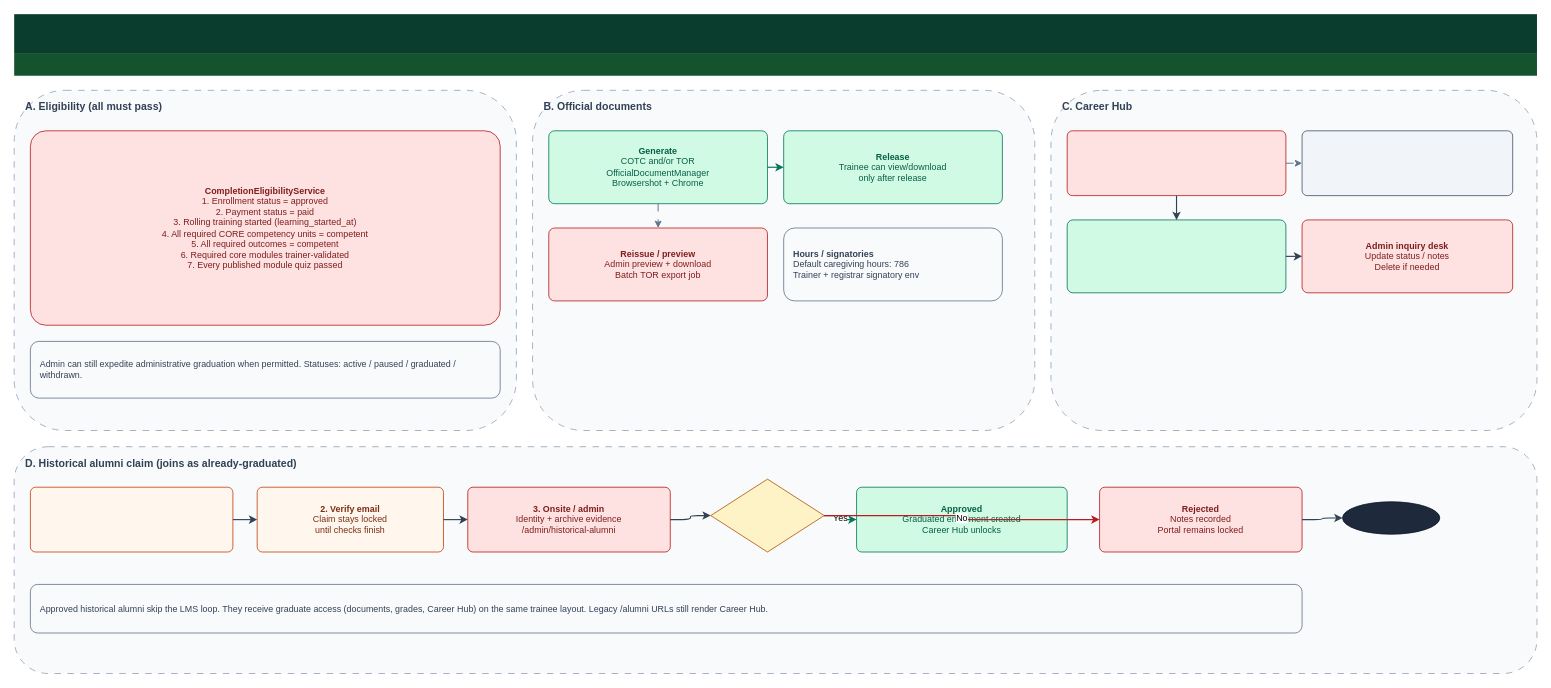
Some shapes in this 1551 by 688 pixel diagram are drawn without their labels. The centre of each missing label's shape, as x and y in pixels:
"1. /alumni/claim Identity, address, training year, evidence" goes at (131,519).
"Admin posts job /admin learning alumni-jobs Publish caregiving opportunity" goes at (1176,163).
"Approve?" goes at (767,515).
"End" goes at (1391,517).
"Graduate Set availability Browse jobs Send contact inquiry" goes at (1176,256).
"How a trainee becomes a graduate and how jobs / SMS / official PDFs work." goes at (775,64).
"MCARE Hub — Graduation, Documents, and Career Hub" goes at (775,33).
"SMS mode none · immediate queue scheduled (every minute cron)" goes at (1407,163).
